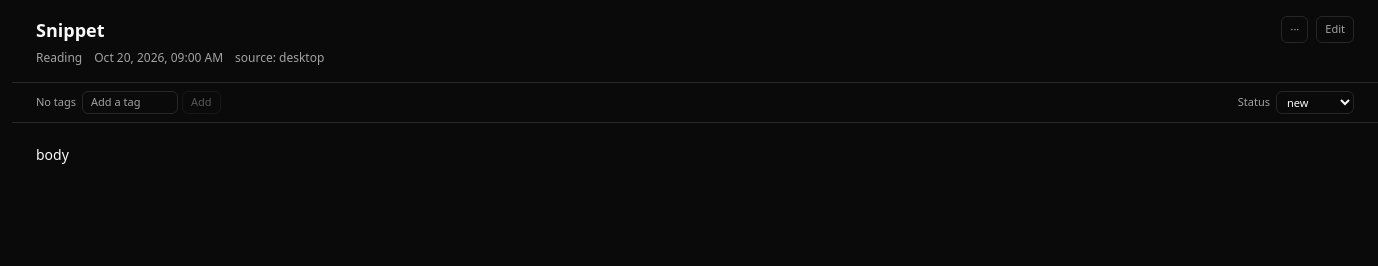
Scenario: NoteViewer child keys › keeps its keys distinct while the editor is open
Click the button "Edit": (1335,29) [1316,16,1354,42]
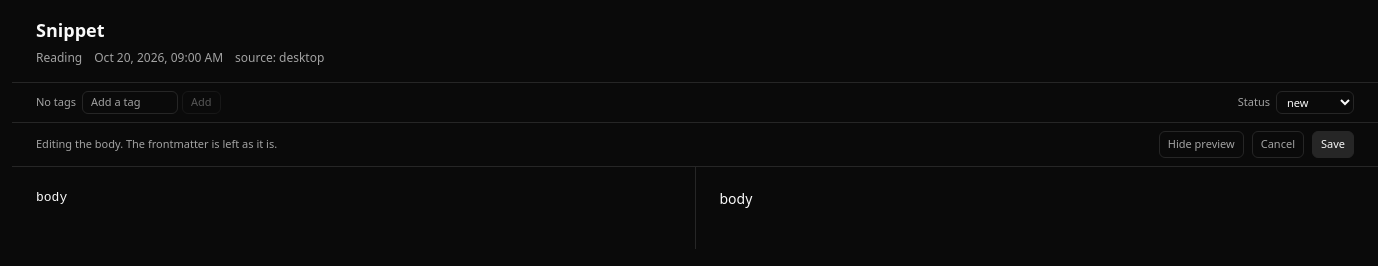
Expected: the text box named "Note body" is shown, [12,166,694,249]
